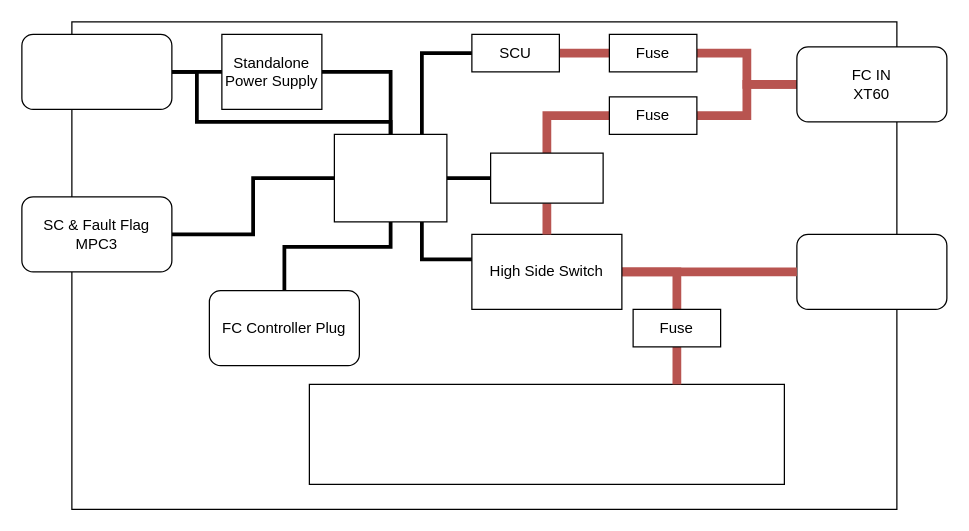
This 969x531 diagram has some shape labels left out. The box of each missing label's shape, as (x1, y1, x2, y2) in pixels:
Control Logic: (333, 133, 447, 222)
Measurements: (489, 152, 603, 203)
Out XT60: (796, 233, 947, 309)
Standalone Plug MPC3: (21, 33, 172, 109)
SuperCaps: (308, 383, 784, 484)
